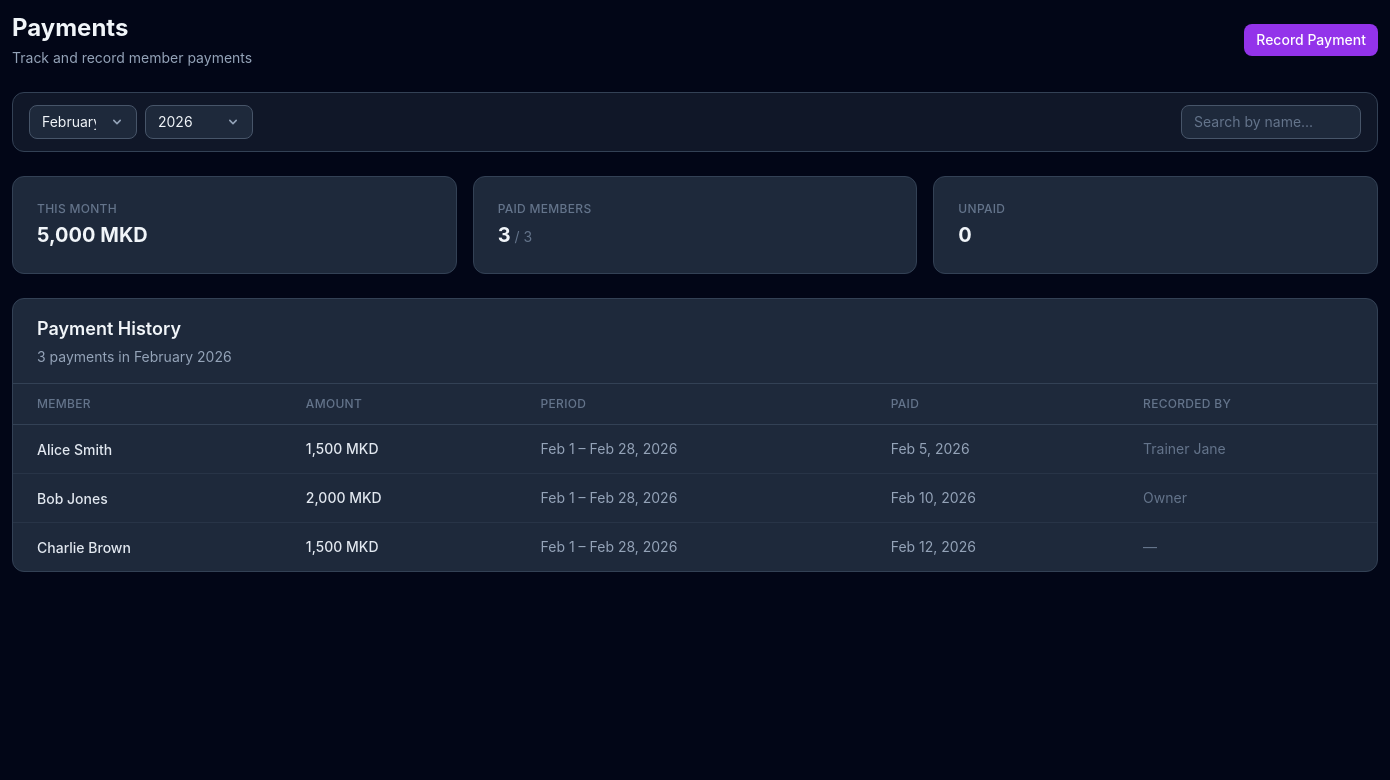
Test case: TrainerPaymentsClient › Search › shows empty state when search matches nothing
This screenshot has width=1390, height=780.
Type "zzz-no-match" into the field named "Search payments by member name" at (1271, 122), box [1181,105,1361,139]
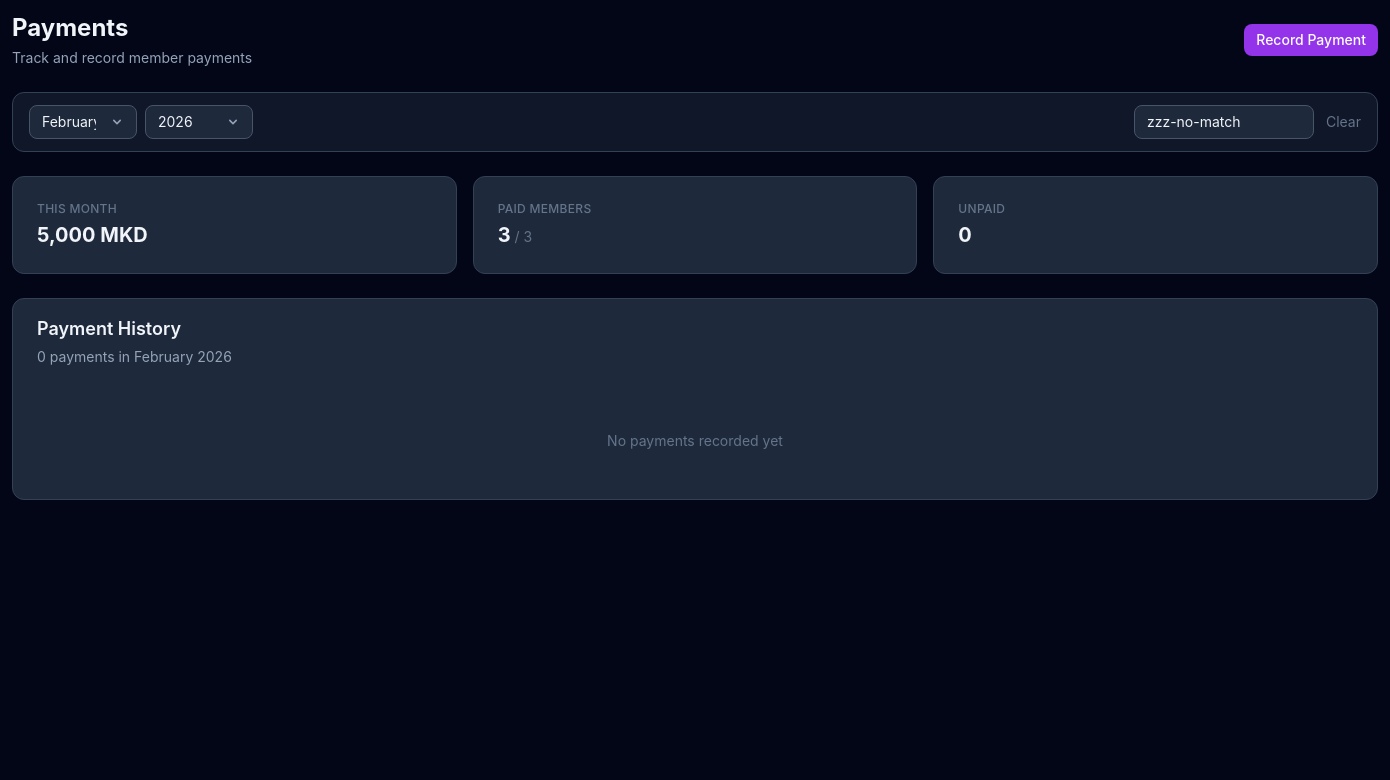
Check: the text "No payments recorded yet" is shown, box [607,432,783,449]
